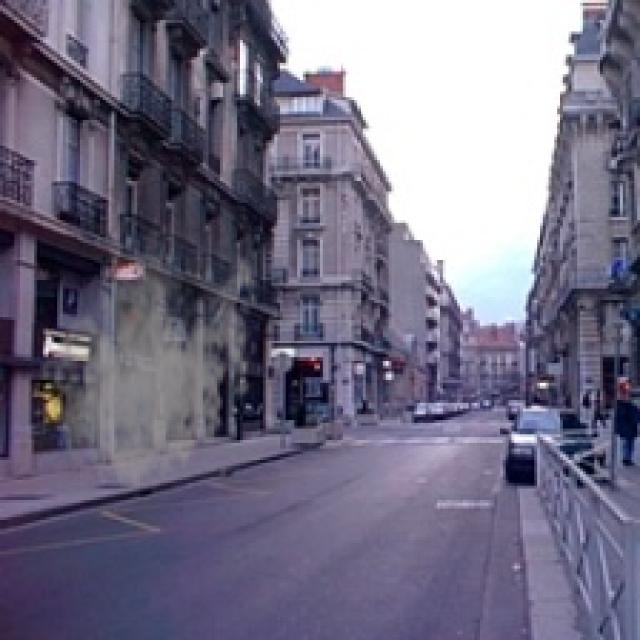smoke: (37, 217, 263, 497)
